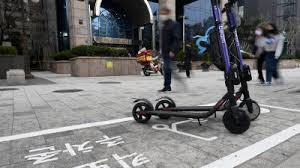kick_body: (151, 110, 207, 118)
kick_neck: (213, 6, 232, 90)
kick_wheel: (223, 109, 250, 135), (242, 99, 261, 120), (133, 102, 150, 121)
